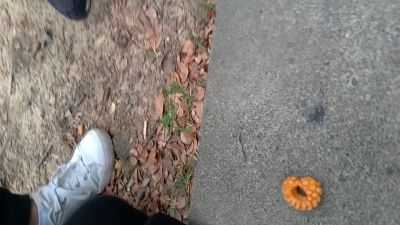eggs: (279, 175, 323, 210)
